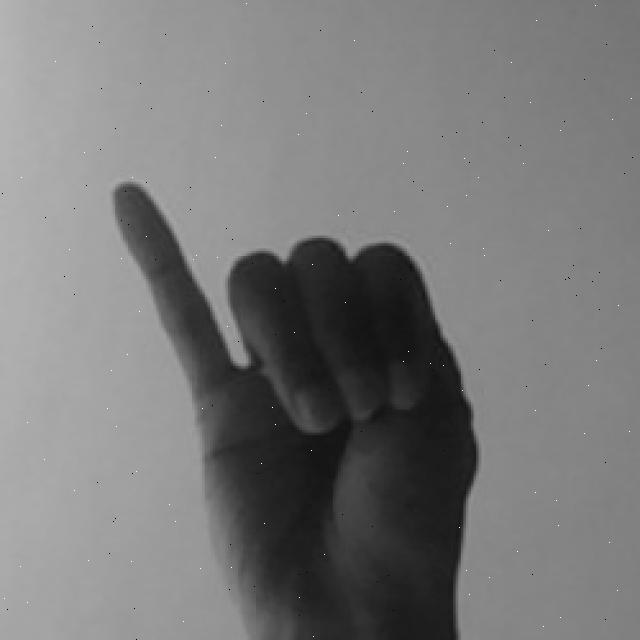I: (107, 176, 483, 640)
